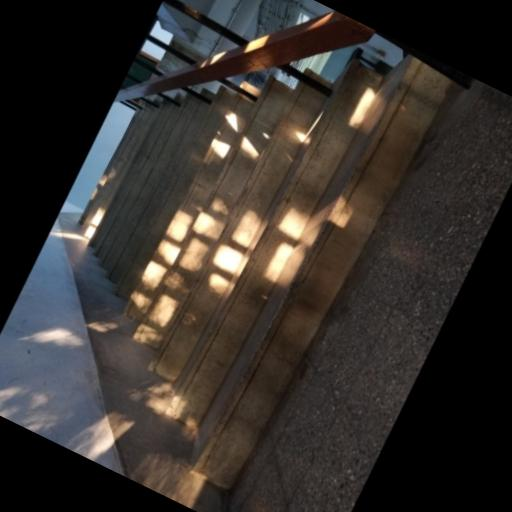stairs: (82, 56, 450, 488)
